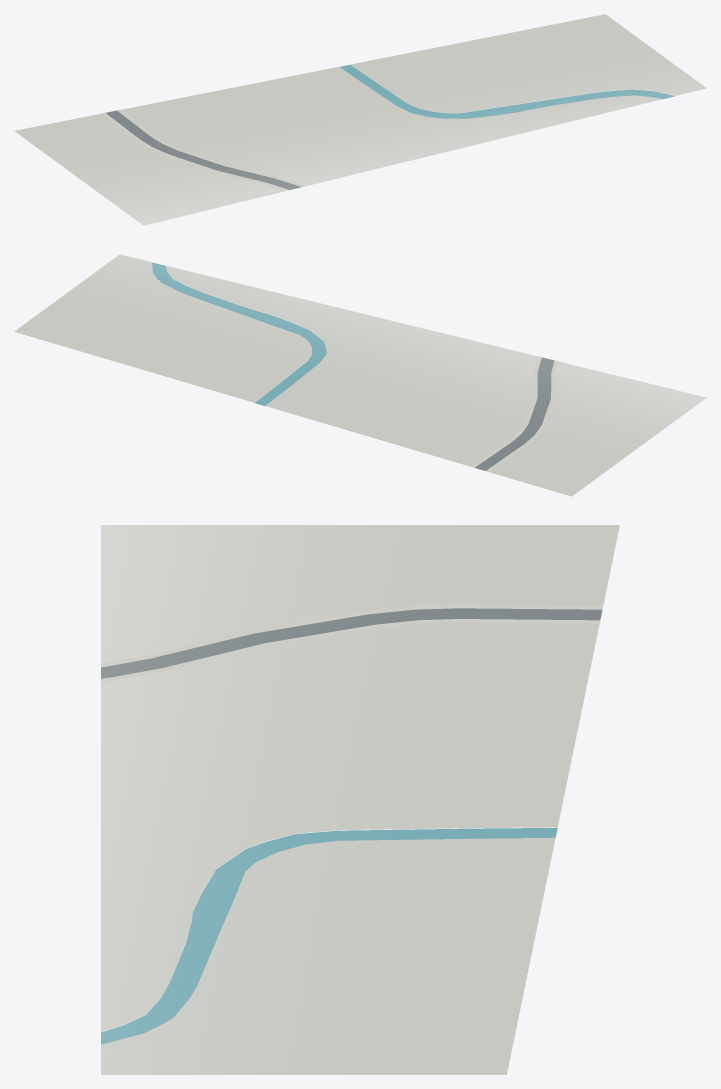
3 renders of one model, top to bottom at view 1: azimuth 30°, elevation 25°; view 2: azimuth 150°, elevation 25°; view 3: azimuth 270°, elevation 25°, orthographic. The views are drawn at different scales.
Parts seen in each view (by area): view 1: city; view 2: city; view 3: city.
Part boxes in pixels (bbox=[...]): city: bbox=[14, 14, 706, 225]; city: bbox=[14, 254, 706, 496]; city: bbox=[101, 525, 619, 1074].
Bounding box in the file's own units: 500 × 0.4 × 199.
